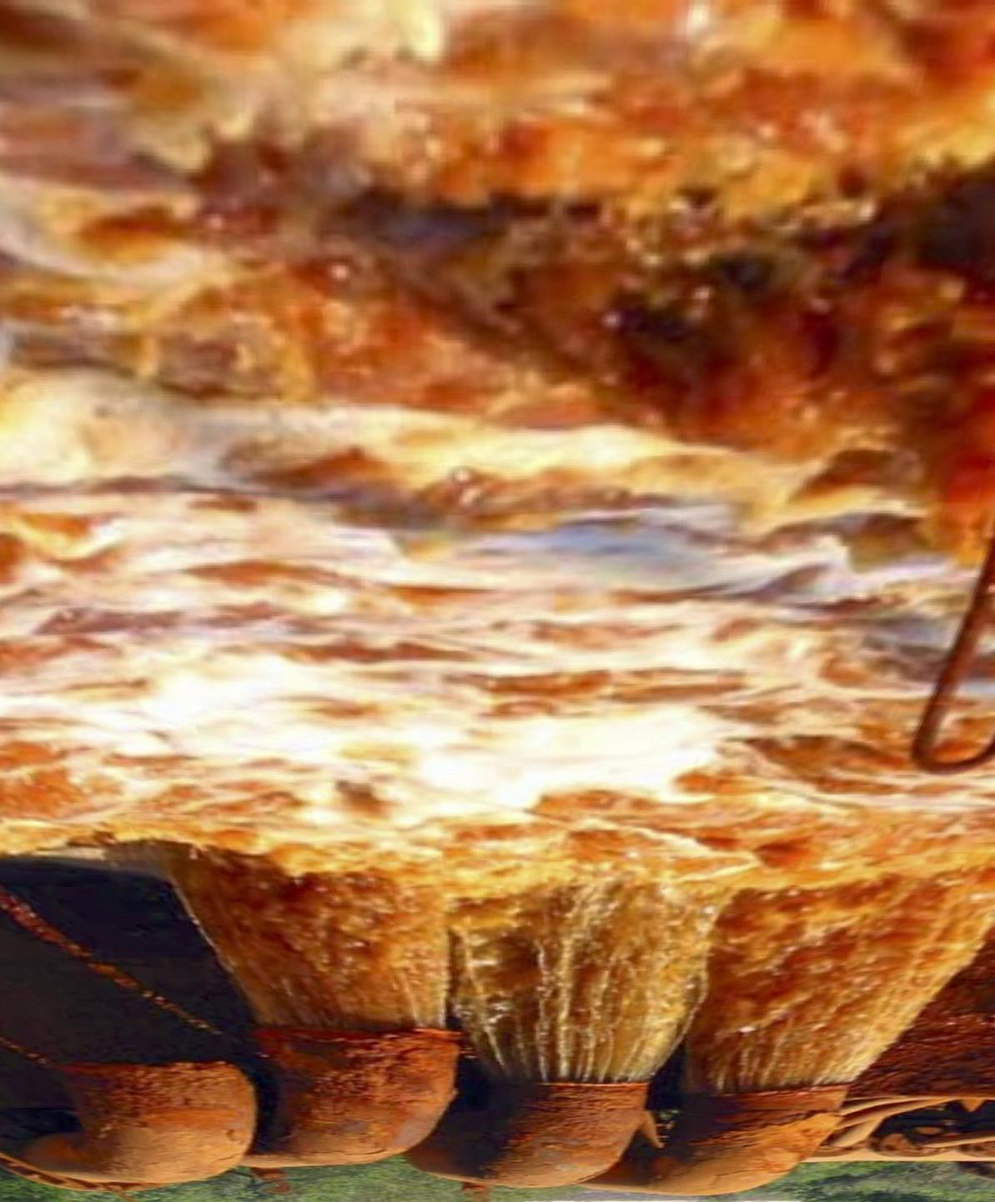Acid Pollution: (15, 9, 995, 868)
